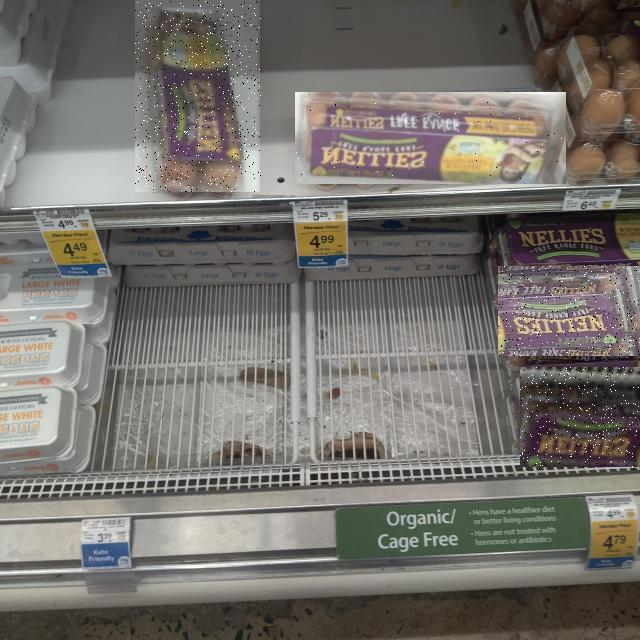Eggs: (295, 92, 566, 184), (136, 0, 262, 192), (498, 267, 640, 357), (520, 367, 640, 467)
